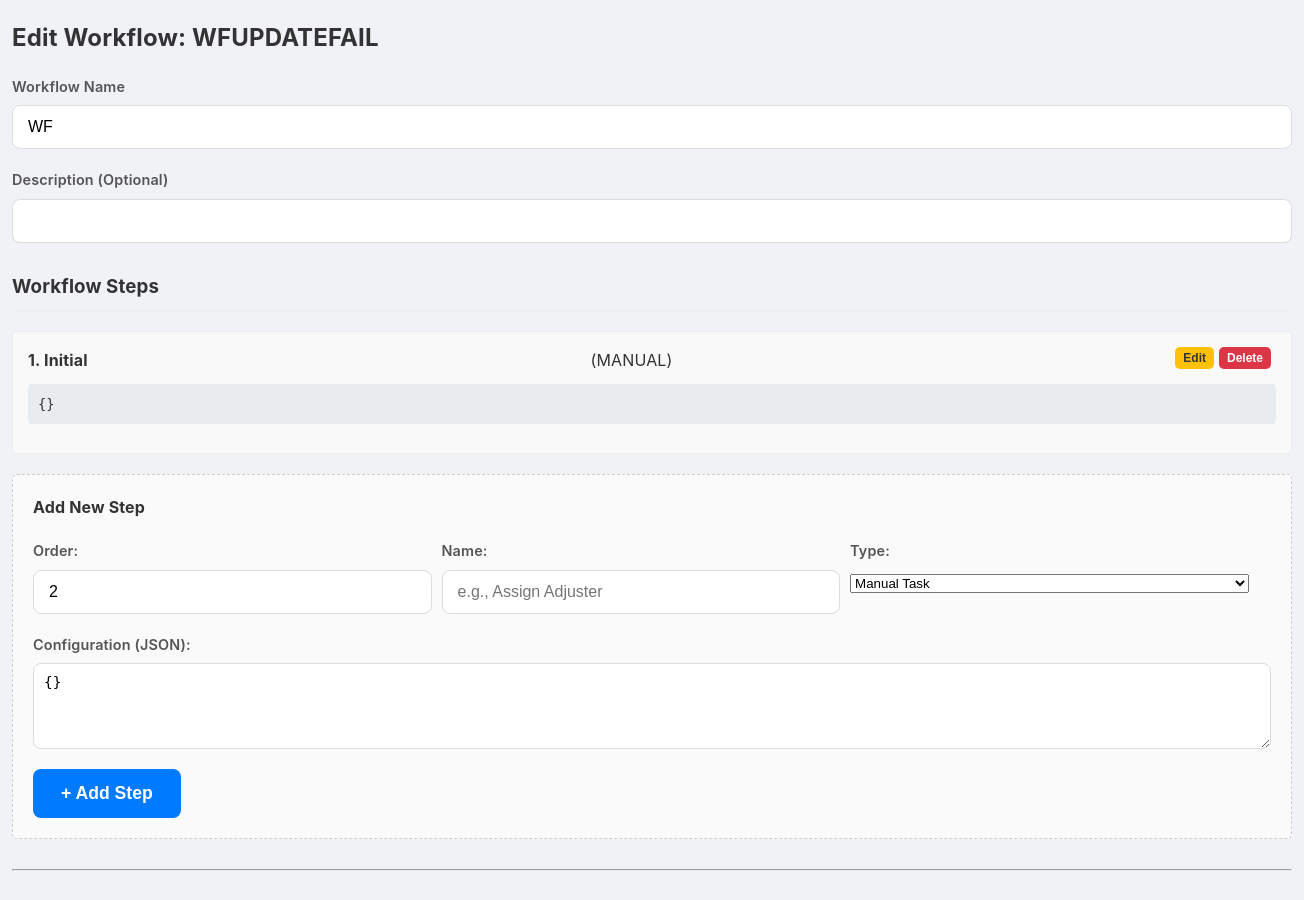
WorkflowEditor › update step failure surfaces inline step error
Click the button "Edit": click(1195, 358) 1175,347 -> 1214,369
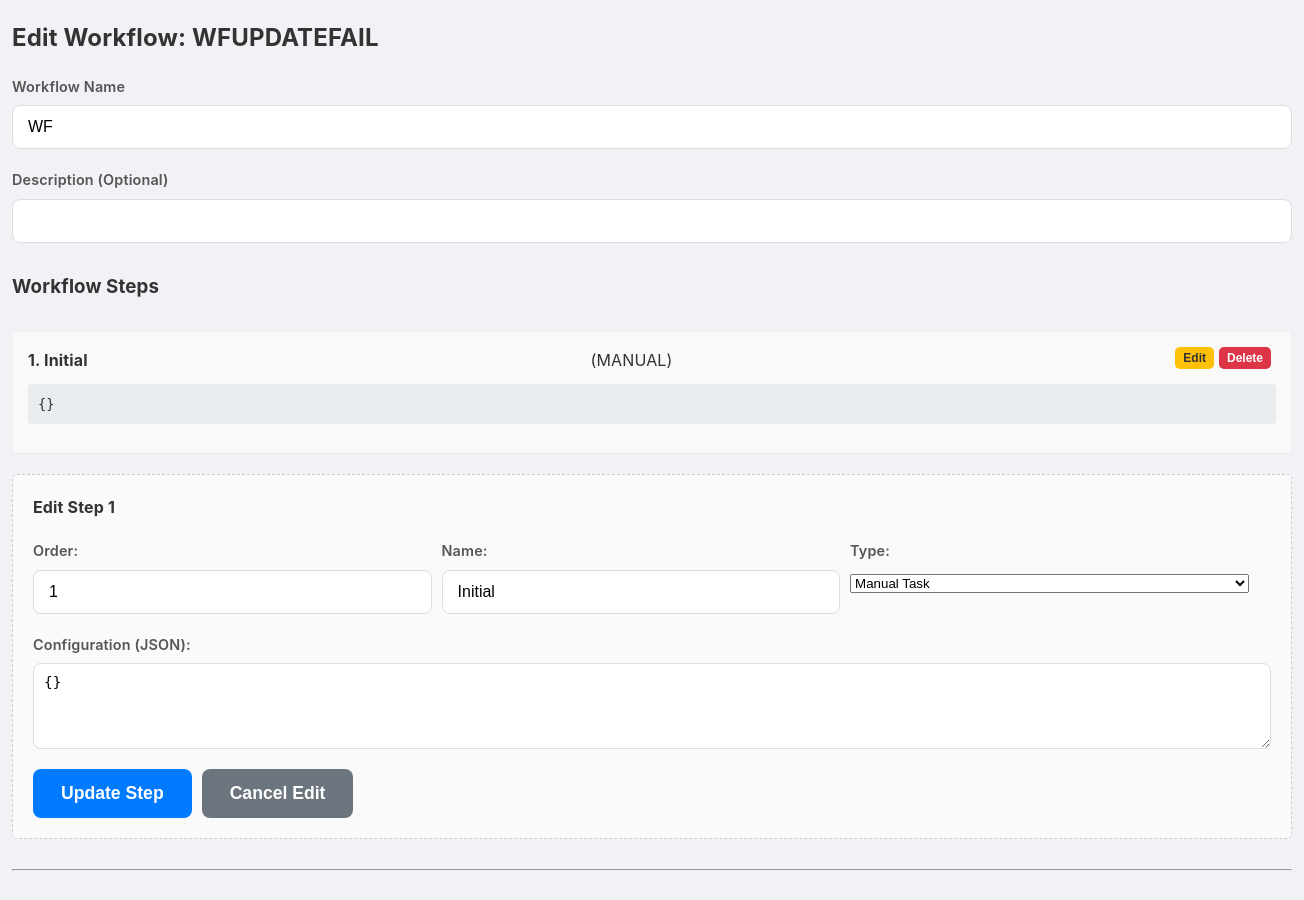
Replace the text in the field with placeholder "e.g., Assign Adjuster" below "Name:" with "Broken Update": (641, 592) 442,570 -> 840,614
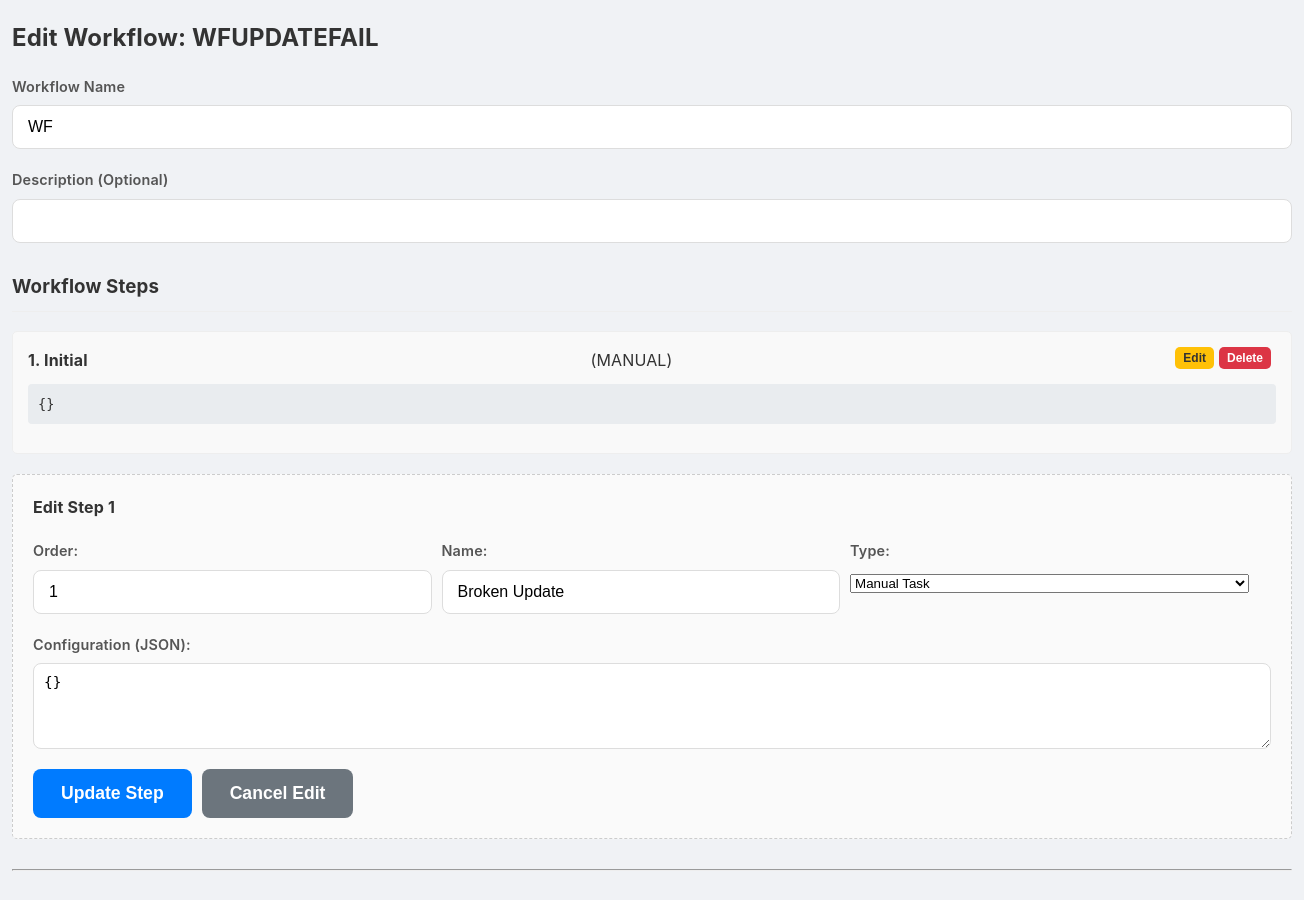
Click the button "Update Step": click(112, 794) 33,769 -> 192,818
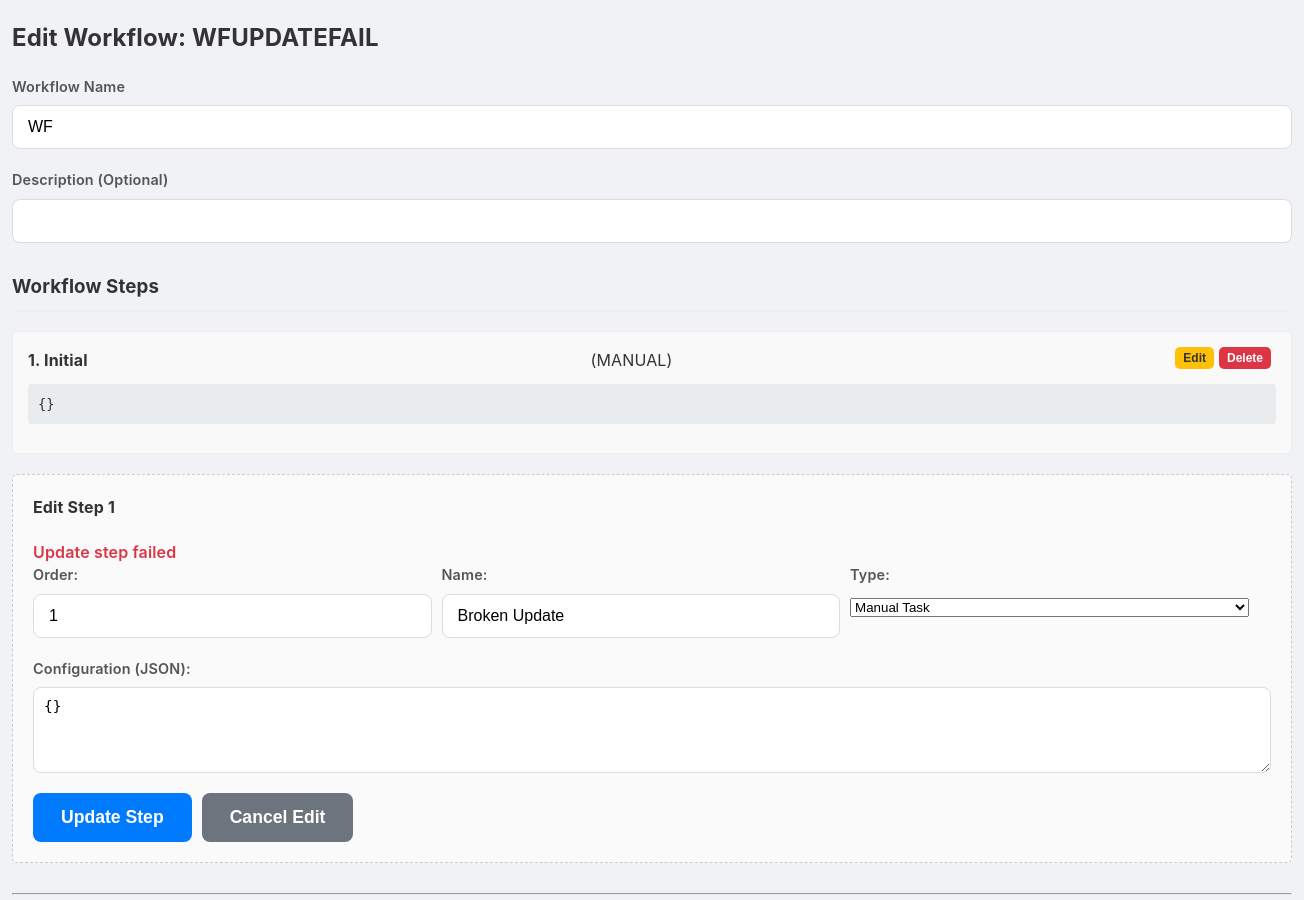
Expected: the text "Update step failed" is shown, 33,542 -> 176,562
